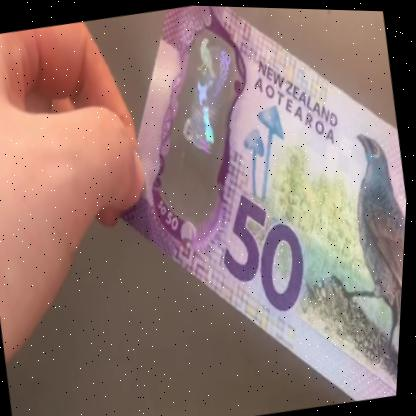50B: (151, 29, 257, 205)
